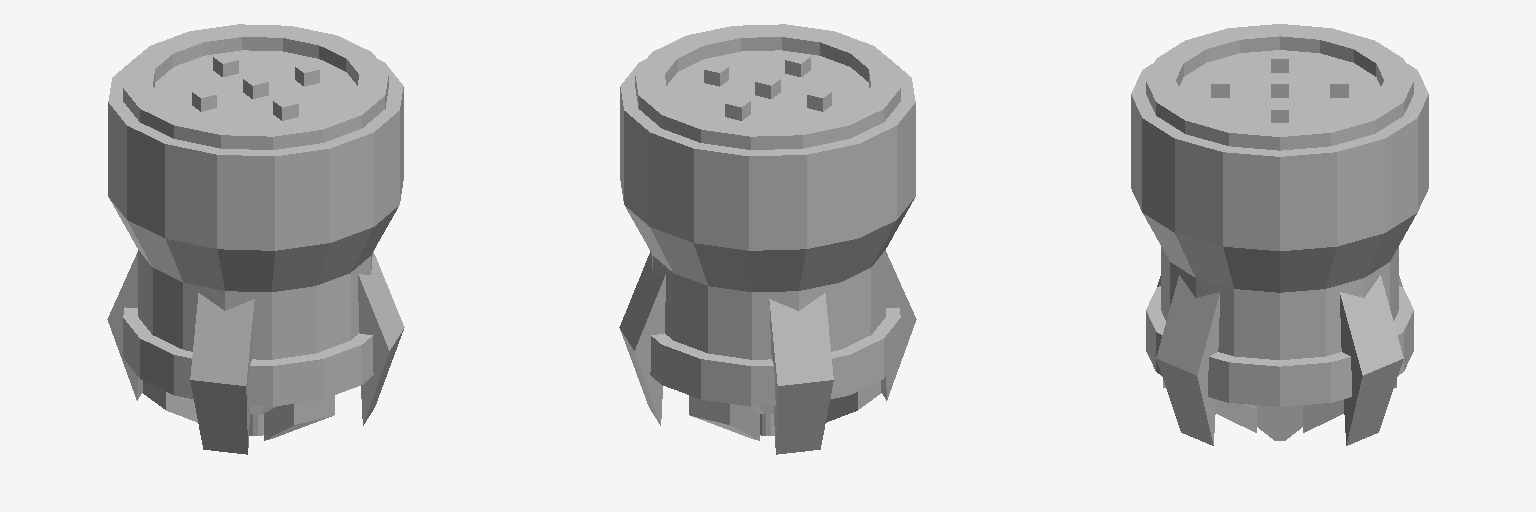
Rendered from ams_emitter.obj.
The picture shows the model from 3 angles: view 1: azimuth 30°, elevation 25°; view 2: azimuth 150°, elevation 25°; view 3: azimuth 270°, elevation 25°; orthographic projection.
Parts seen in each view (by area): view 1: Circle; view 2: Circle; view 3: Circle.
Boxes of the visible parts, x1=… form: Circle: x1=107, y1=24, x2=404, y2=454; Circle: x1=619, y1=24, x2=916, y2=454; Circle: x1=1131, y1=24, x2=1428, y2=445.
Bounding box in the file's own units: 5 × 6.5 × 5.